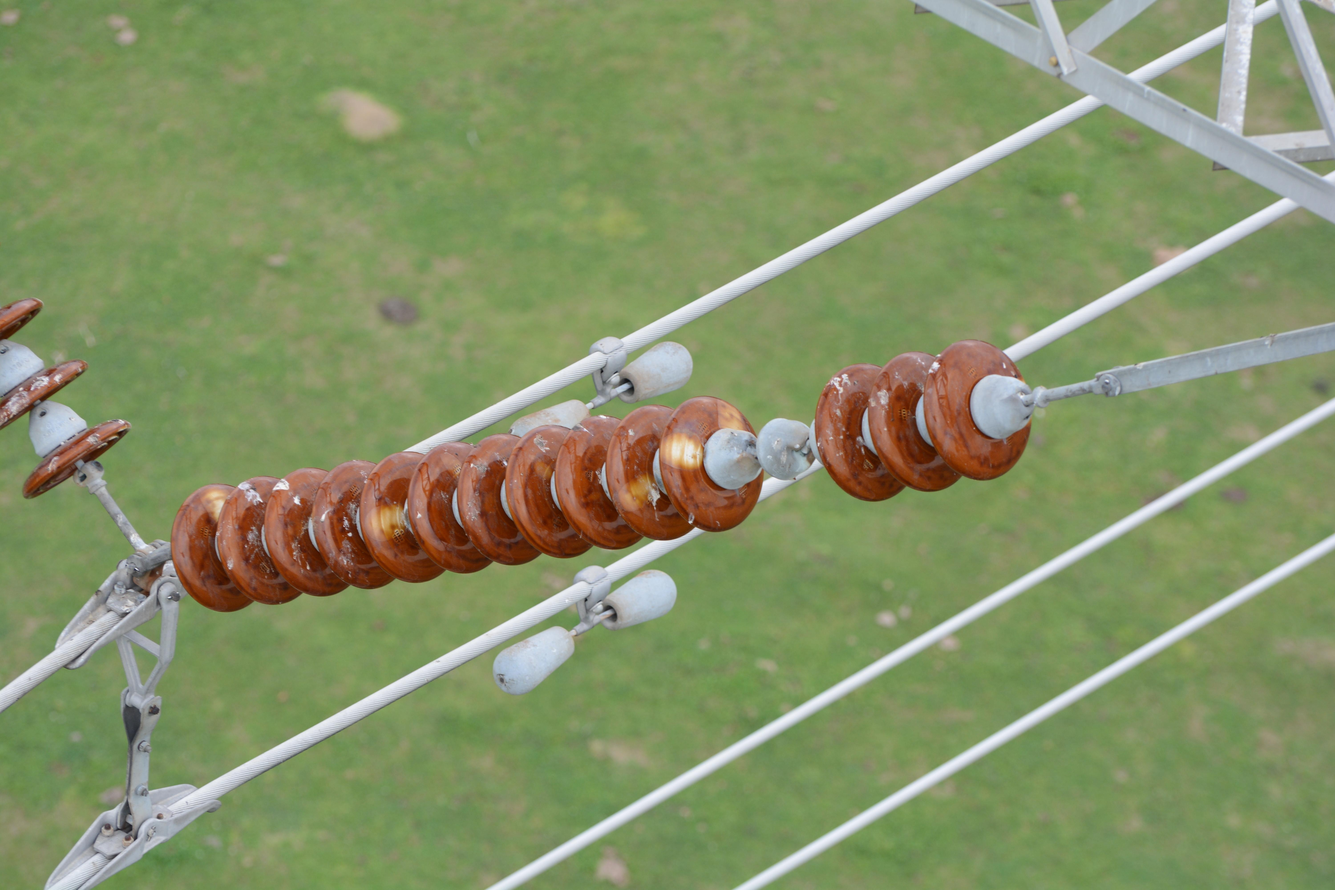Flashover: (613, 469, 663, 516), (363, 502, 409, 544), (663, 429, 705, 471), (198, 486, 225, 525)
damaged: (730, 422, 780, 482), (784, 415, 817, 478)
hammer: (492, 570, 676, 690), (510, 322, 691, 435)
insulator: (171, 336, 1035, 614), (0, 300, 145, 501)
